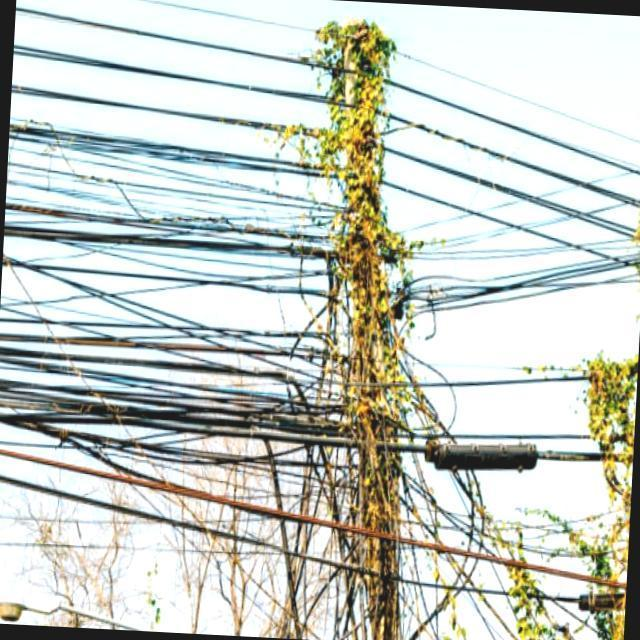critical vegetation: (295, 12, 430, 615)
